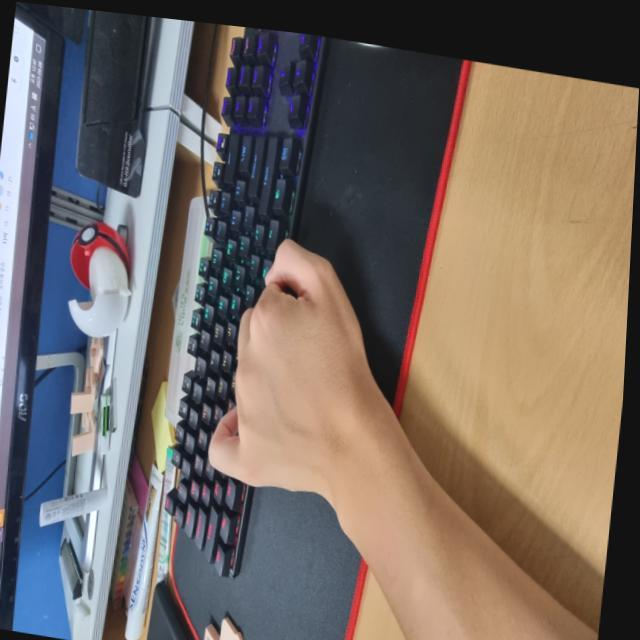keyboard-with-hands: (162, 24, 327, 588)
